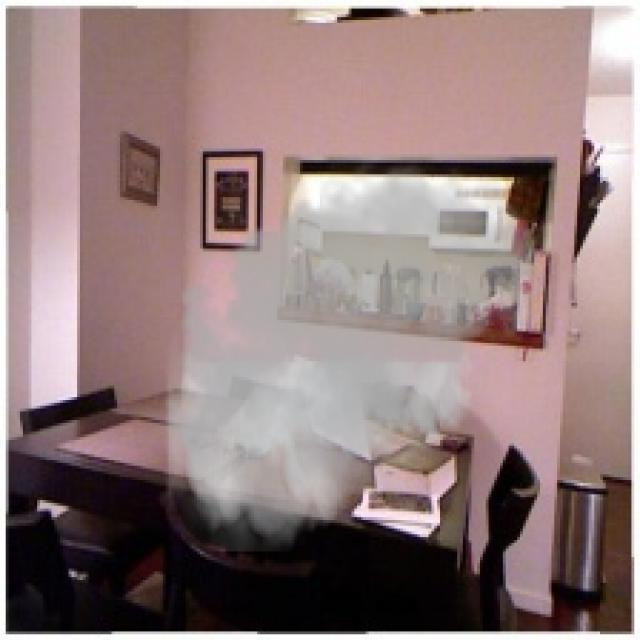Smoke: (151, 148, 546, 552)
